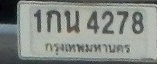num1: (32, 8, 43, 33)
txt01: (44, 9, 62, 33)
txt20: (63, 10, 81, 33)
